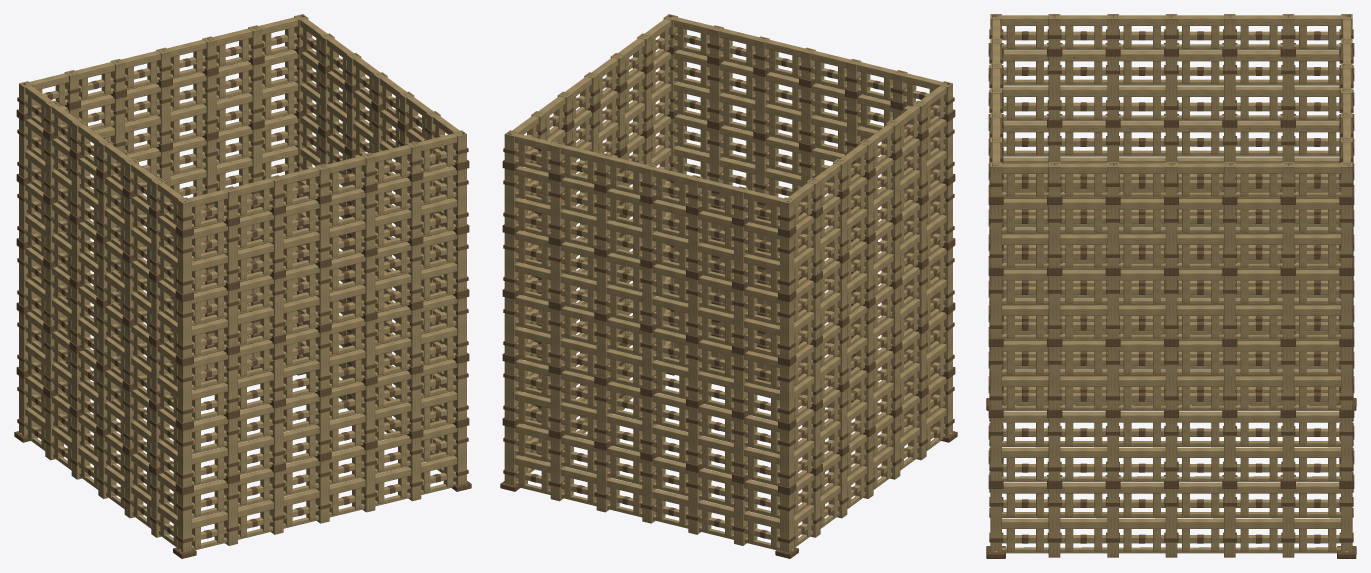
3 views of the same model, side by side, from view 1: azimuth 30°, elevation 25°; view 2: azimuth 150°, elevation 25°; view 3: azimuth 270°, elevation 25° (orthographic). The views are drawn at different scales.
Visible parts, largest first — view 1: Tier 0 side 0 post 0, Tier 2 side 0 post 0, Tier 3 side 0 post 0, Tier 1 side 0 post 0, Tier 4 side 0 post 0, Tier 0 side 0 post 5, Tier 0 side 0 post 4, Tier 0 side 0 post 3, Tier 0 side 0 post 2, Tier 0 side 0 post 1, Tier 2 side 0 post 5, Tier 1 side 0 post 5 (+28 smaller); view 2: Tier 0 side 3 post 0, Tier 2 side 3 post 0, Tier 3 side 3 post 0, Tier 1 side 3 post 0, Tier 4 side 3 post 0, Tier 0 side 2 post 1, Tier 0 side 2 post 2, Tier 0 side 2 post 3, Tier 0 side 2 post 4, Tier 0 side 2 post 5, Tier 0 side 2 post 0, Tier 2 side 2 post 0 (+28 smaller); view 3: Tier 0 side 1 post 1, Tier 0 side 1 post 3, Tier 0 side 1 post 5, Tier 0 side 1 post 2, Tier 0 side 1 post 4, Tier 4 side 3 post 1, Tier 4 side 3 post 3, Tier 4 side 3 post 5, Tier 1 side 1 post 1, Tier 1 side 1 post 3, Tier 1 side 1 post 5, Tier 2 side 1 post 1 (+118 smaller).
Boxes of the visible parts, x1,y1,x2,y2 form: Tier 0 side 0 post 0: (177, 492, 191, 552); Tier 2 side 0 post 0: (177, 363, 191, 423); Tier 3 side 0 post 0: (177, 299, 191, 358); Tier 1 side 0 post 0: (177, 428, 191, 487); Tier 4 side 0 post 0: (177, 235, 191, 294); Tier 0 side 0 post 5: (407, 437, 421, 501); Tier 0 side 0 post 4: (361, 448, 375, 512); Tier 0 side 0 post 3: (315, 459, 329, 523); Tier 0 side 0 post 2: (269, 470, 283, 534); Tier 0 side 0 post 1: (224, 482, 237, 545); Tier 2 side 0 post 5: (407, 308, 421, 367); Tier 1 side 0 post 5: (407, 373, 421, 431); Tier 0 side 3 post 0: (780, 492, 794, 552); Tier 2 side 3 post 0: (780, 363, 794, 423); Tier 3 side 3 post 0: (780, 299, 794, 358); Tier 1 side 3 post 0: (780, 428, 794, 487); Tier 4 side 3 post 0: (780, 235, 794, 294); Tier 0 side 2 post 1: (550, 437, 564, 501); Tier 0 side 2 post 2: (596, 448, 610, 512); Tier 0 side 2 post 3: (642, 459, 656, 523); Tier 0 side 2 post 4: (688, 470, 702, 534); Tier 0 side 2 post 5: (734, 482, 747, 545); Tier 0 side 2 post 0: (504, 426, 518, 485); Tier 2 side 2 post 0: (504, 297, 518, 356); Tier 0 side 1 post 1: (1048, 489, 1060, 557); Tier 0 side 1 post 3: (1165, 489, 1177, 557); Tier 0 side 1 post 5: (1282, 489, 1294, 557); Tier 0 side 1 post 2: (1107, 489, 1118, 557); Tier 0 side 1 post 4: (1224, 489, 1235, 557); Tier 4 side 3 post 1: (1282, 56, 1294, 119); Tier 4 side 3 post 3: (1165, 56, 1177, 119); Tier 4 side 3 post 5: (1048, 56, 1060, 119); Tier 1 side 1 post 1: (1048, 418, 1060, 480); Tier 1 side 1 post 3: (1165, 418, 1177, 480); Tier 1 side 1 post 5: (1282, 418, 1294, 480); Tier 2 side 1 post 1: (1048, 347, 1060, 409).
Size of the model in its own units: 2.85 by 3.32 by 2.85.
2 materials, 2 textured.
